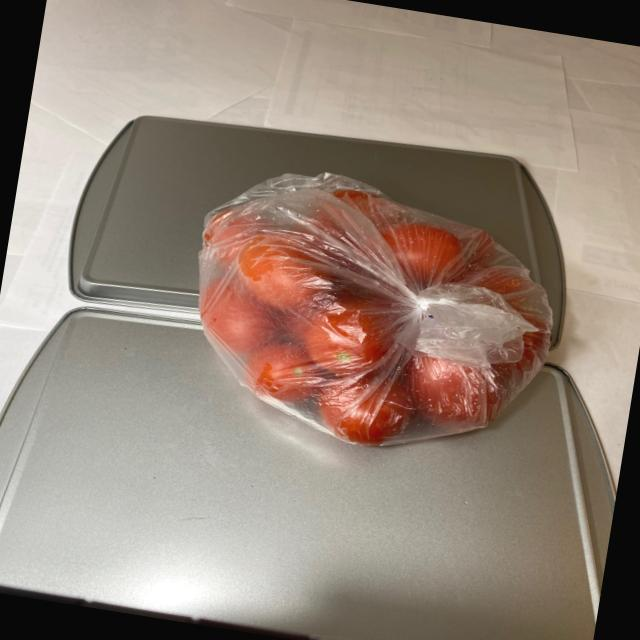tomato: (165, 166, 570, 472)
